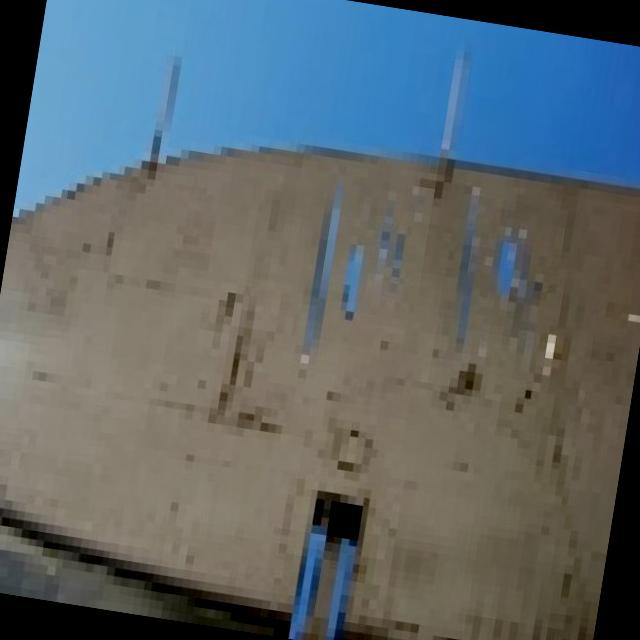crack: (296, 156, 567, 414)
